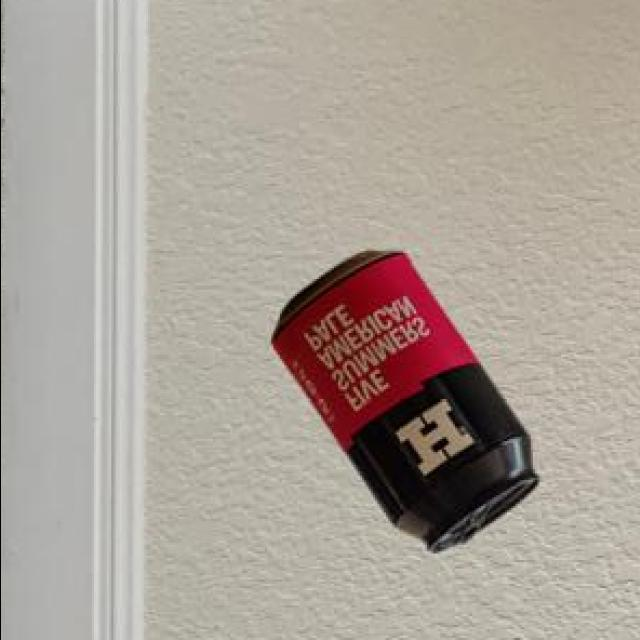logam: (274, 254, 542, 557)
